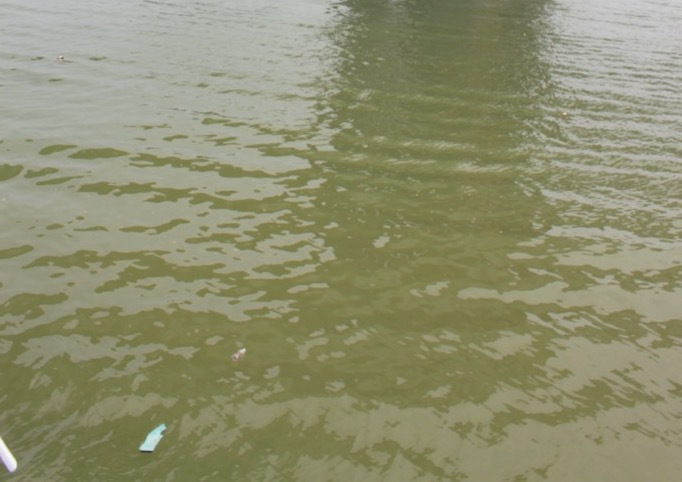plastic: (129, 411, 176, 457), (216, 341, 264, 371), (50, 49, 70, 67)
structure: (267, 1, 579, 435)
